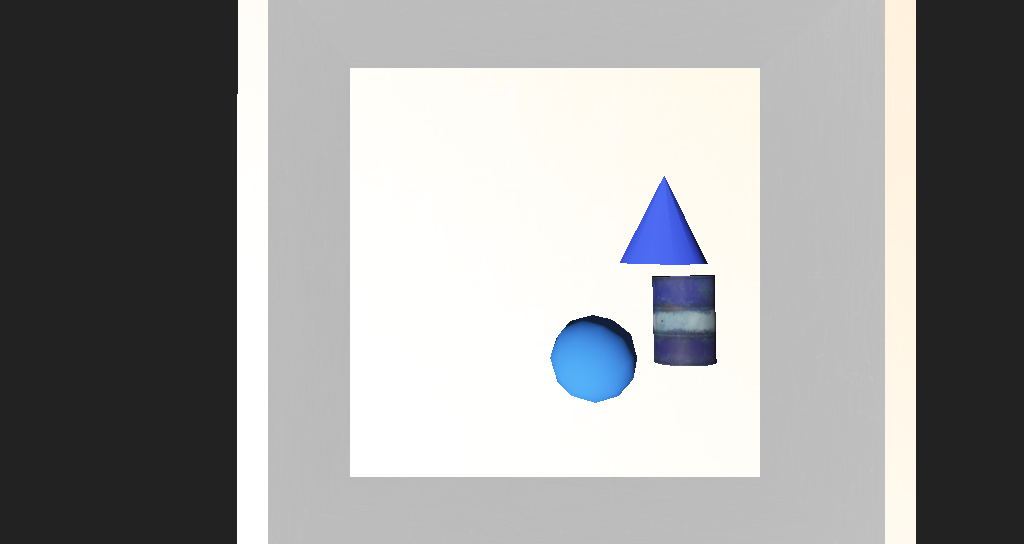cone: (573, 267, 627, 315)
cylinder: (556, 215, 616, 262)
sphere: (499, 293, 566, 336)
